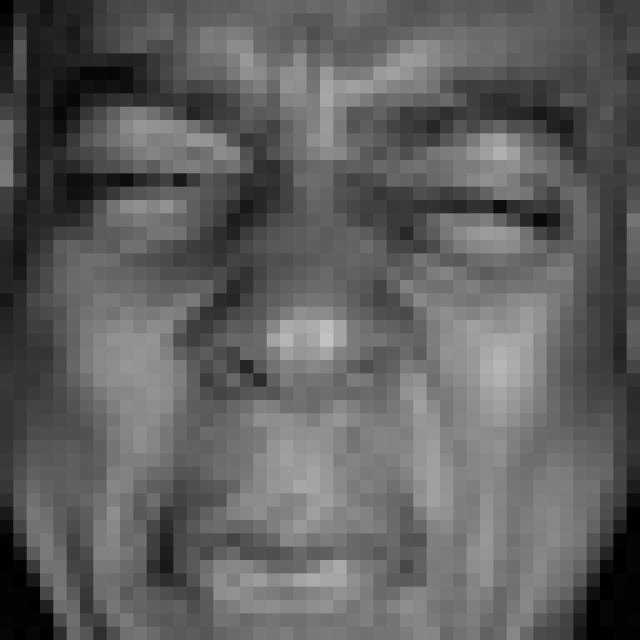disgust: (48, 35, 597, 640)
